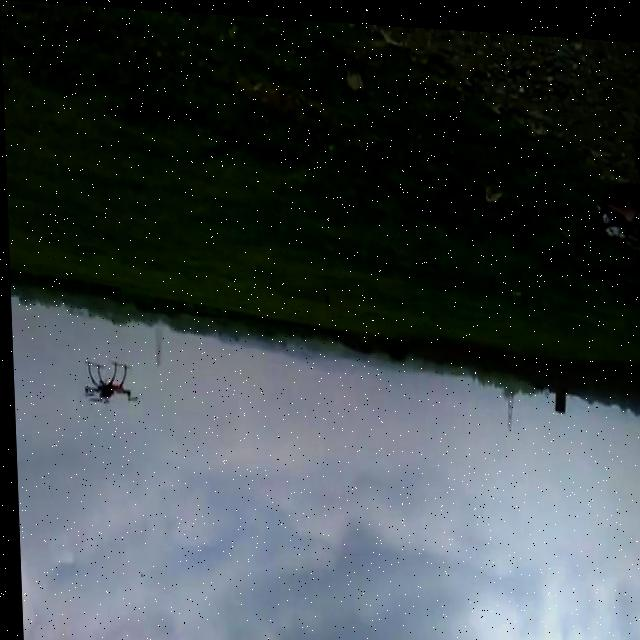drone: (76, 360, 138, 406)
